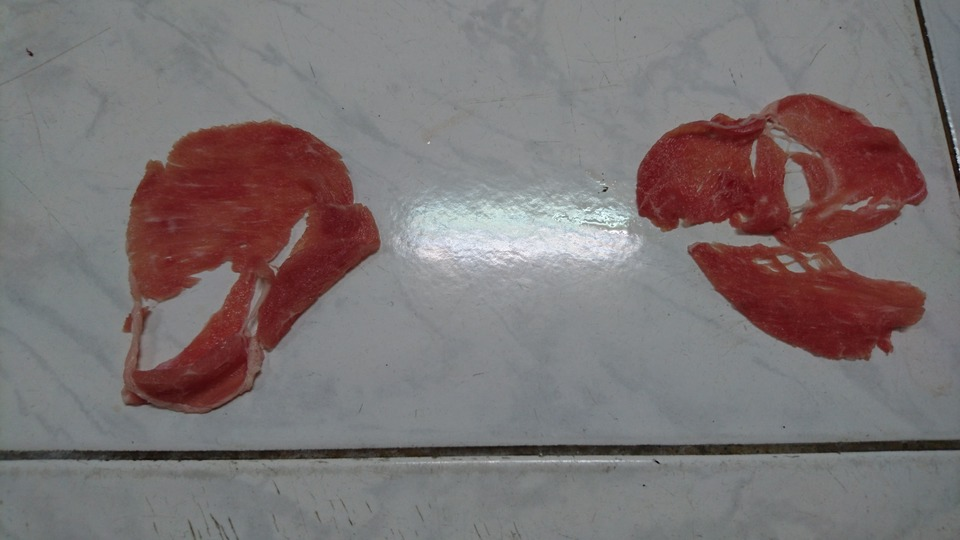restructured meat: (99, 98, 377, 425), (627, 98, 925, 380)
